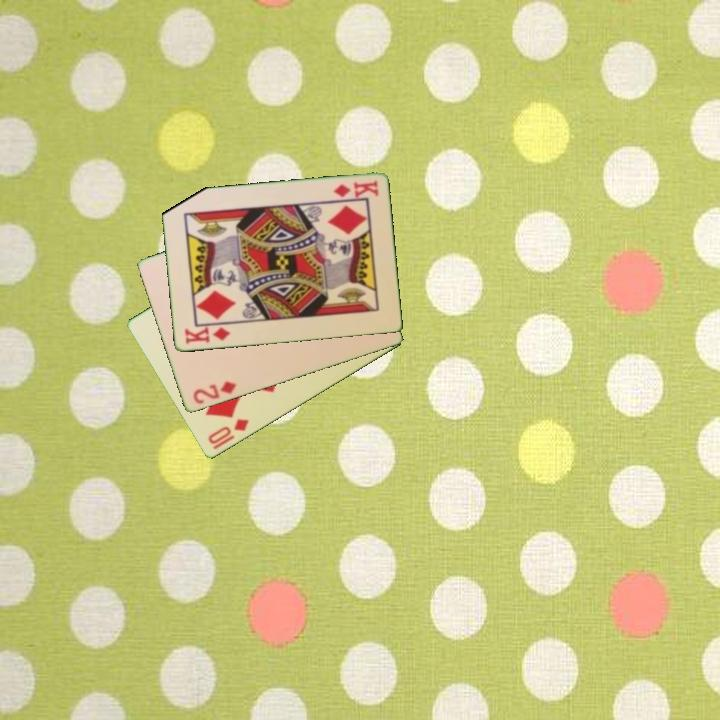10d: (204, 415, 252, 448)
2d: (189, 378, 239, 407)
Kd: (181, 323, 233, 347), (329, 177, 381, 200)
